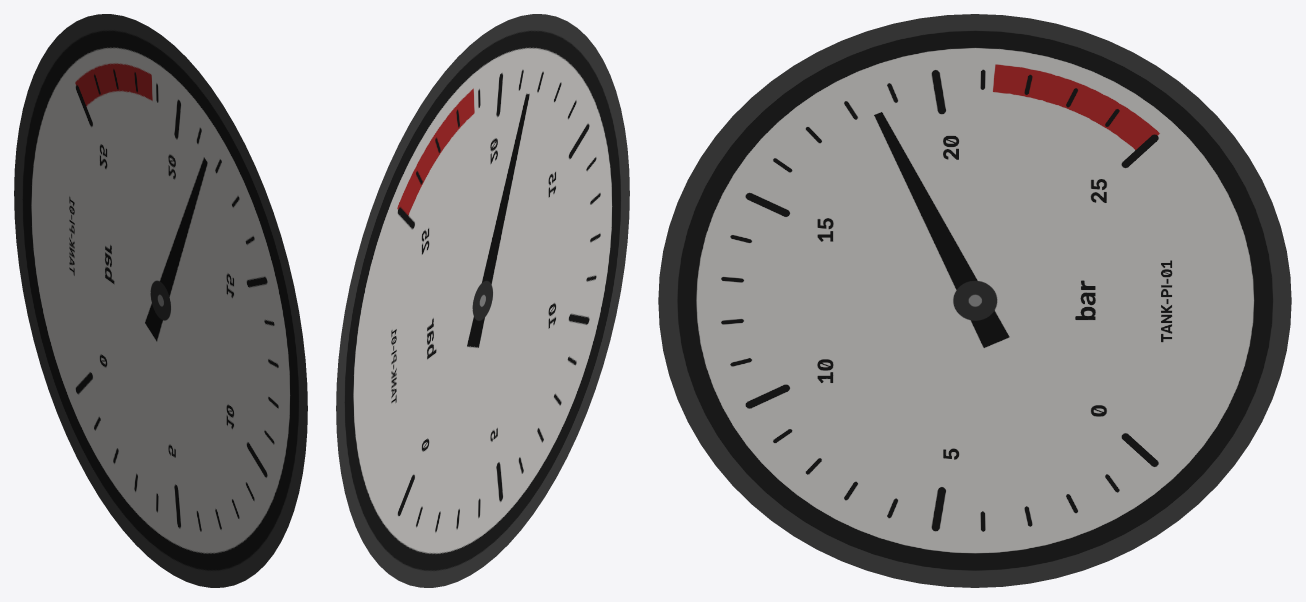
Rendered from dial.obj.
The picture shows the model from 3 angles, left to right: view 1: azimuth 30°, elevation 25°; view 2: azimuth 150°, elevation 25°; view 3: azimuth 270°, elevation 25°; orthographic projection. The views are drawn at different scales.
Parts seen in each view (by area): view 1: gauge_g04_dial; view 2: gauge_g04_dial; view 3: gauge_g04_dial.
Part boxes in pixels (bbox=[...]): gauge_g04_dial: bbox=[14, 14, 307, 587]; gauge_g04_dial: bbox=[336, 14, 629, 587]; gauge_g04_dial: bbox=[658, 14, 1291, 587].
Bounding box in the file's own units: 0 × 0.3 × 0.3.
1 material, 1 textured.
